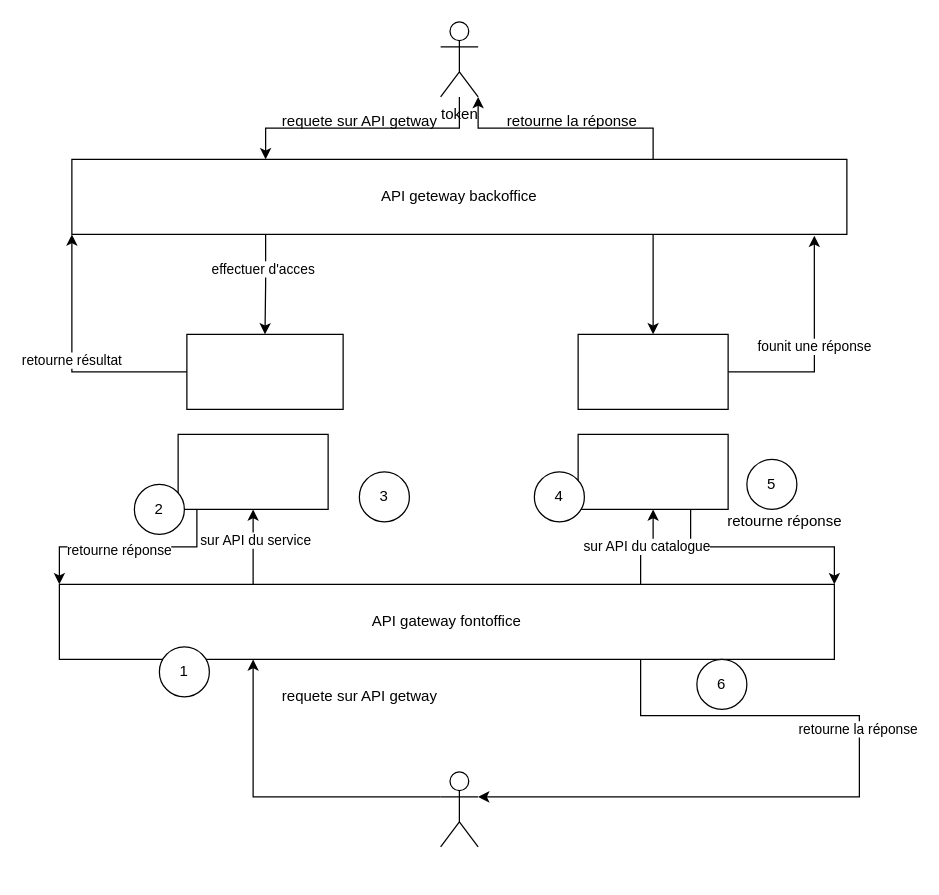
Some shapes in this 939 by 895 pixel diagram are drawn without their labels. Each missing label, with the box of its shape:
Actor: (439, 771, 478, 847)
catalogue: (577, 433, 728, 509)
commandes: (177, 433, 328, 509)
service authentification: (577, 333, 728, 409)
suivi commandes: (186, 333, 343, 409)
